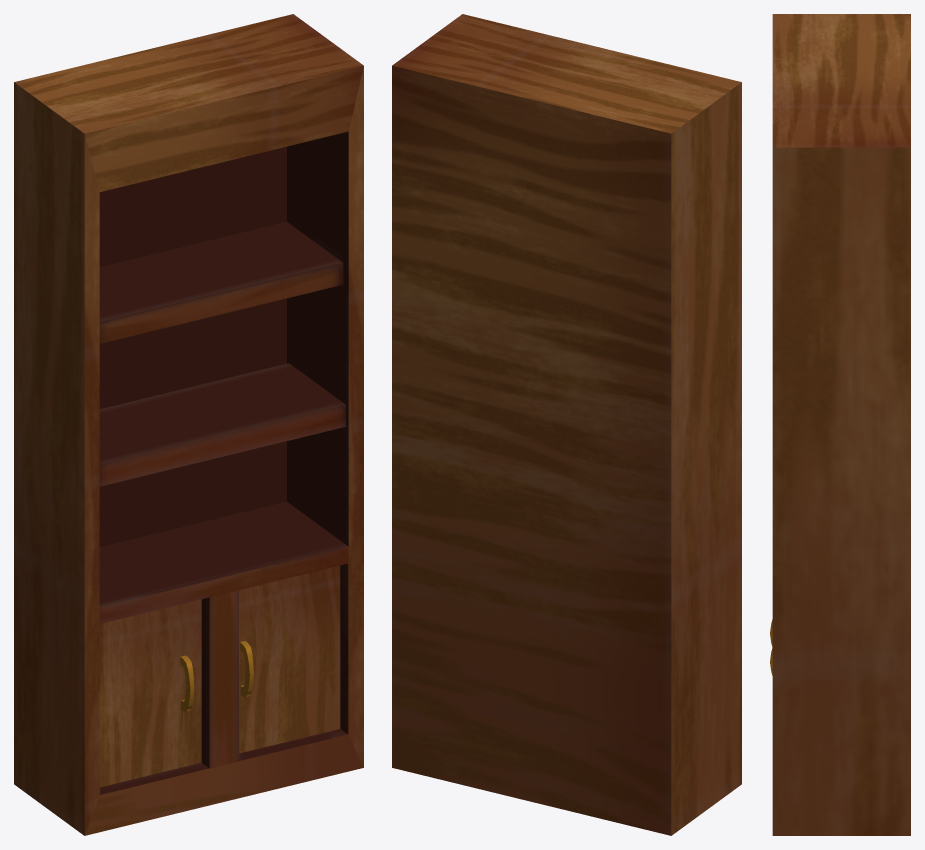
File: PR_Bookshelf2.fbx
3 renders of one model, left to right at view 1: azimuth 30°, elevation 25°; view 2: azimuth 150°, elevation 25°; view 3: azimuth 270°, elevation 25°, orthographic. The views are drawn at different scales.
Visible parts, largest first — view 1: Shelve02; view 2: Shelve02; view 3: Shelve02.
Part boxes in pixels (box(x1,y1,x2,y2)): Shelve02: box(14, 14, 363, 835); Shelve02: box(392, 14, 741, 835); Shelve02: box(770, 14, 910, 835).
Bounding box in the file's own units: 106 × 255 × 47.39.
